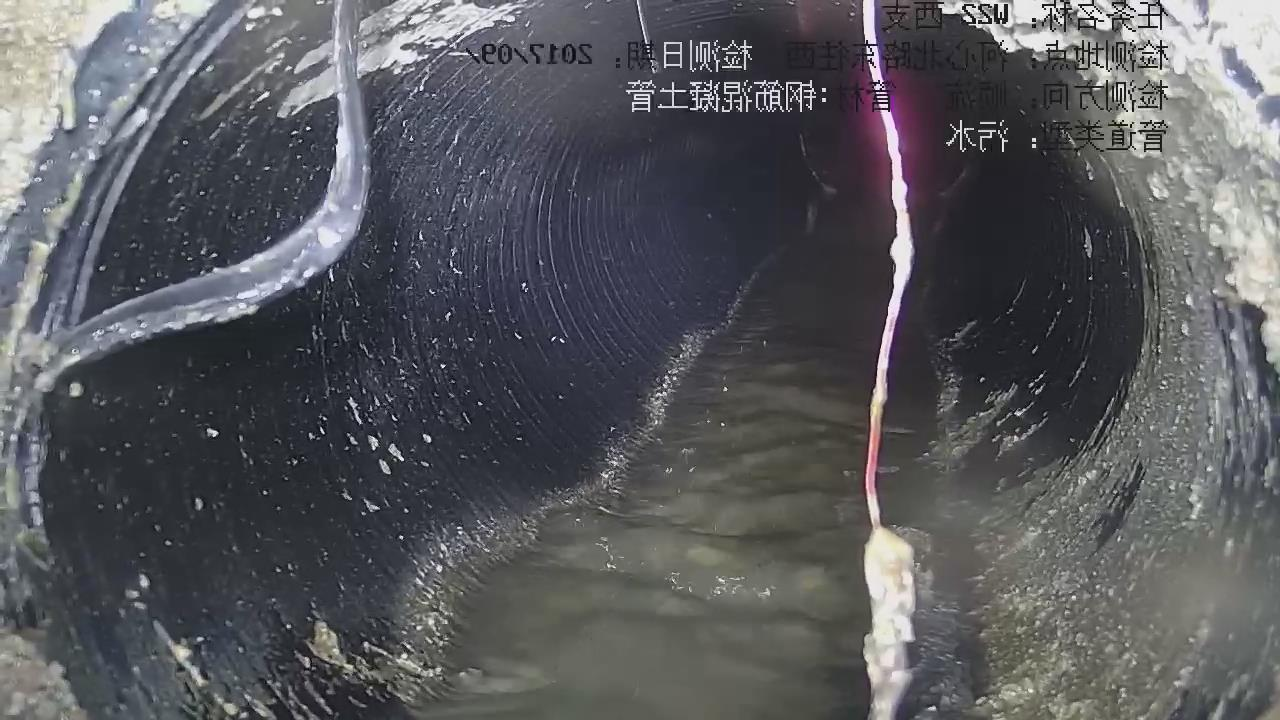JKCL: (42, 0, 371, 381)
